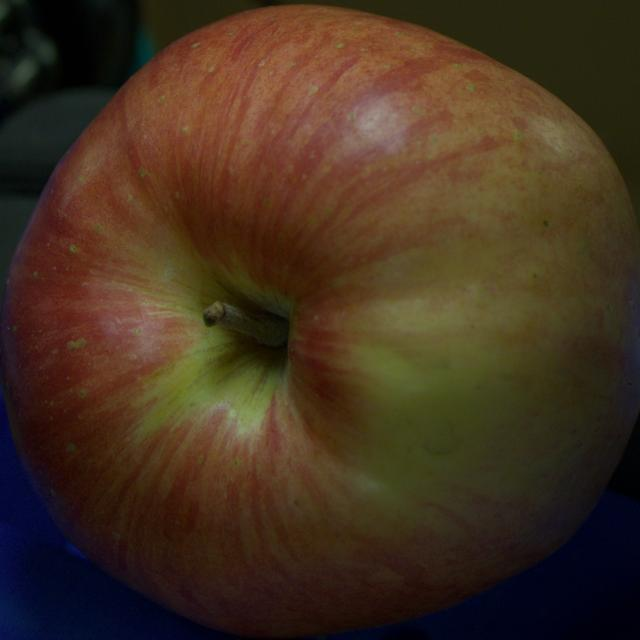apple: (0, 6, 639, 636)
